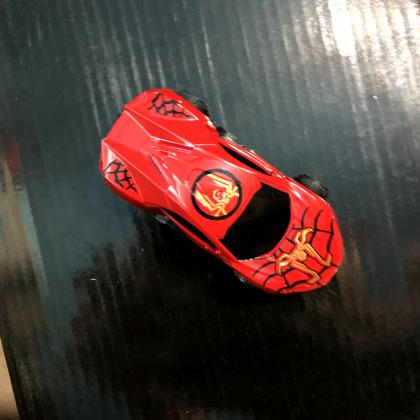Car: (98, 89, 344, 297)
